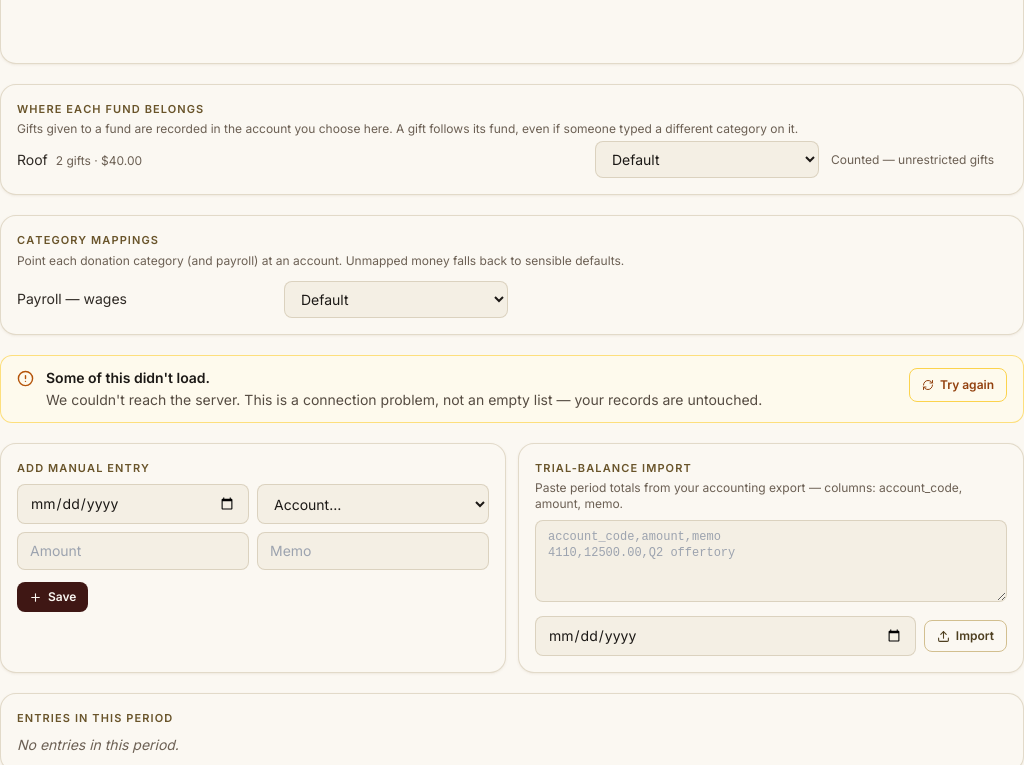
it: FAILED affiliation is not independence › retry replaces the unread affiliation with the diocese block
(page scrolled)
Click the button "Try again" at (958, 384), box [909,368,1007,402]
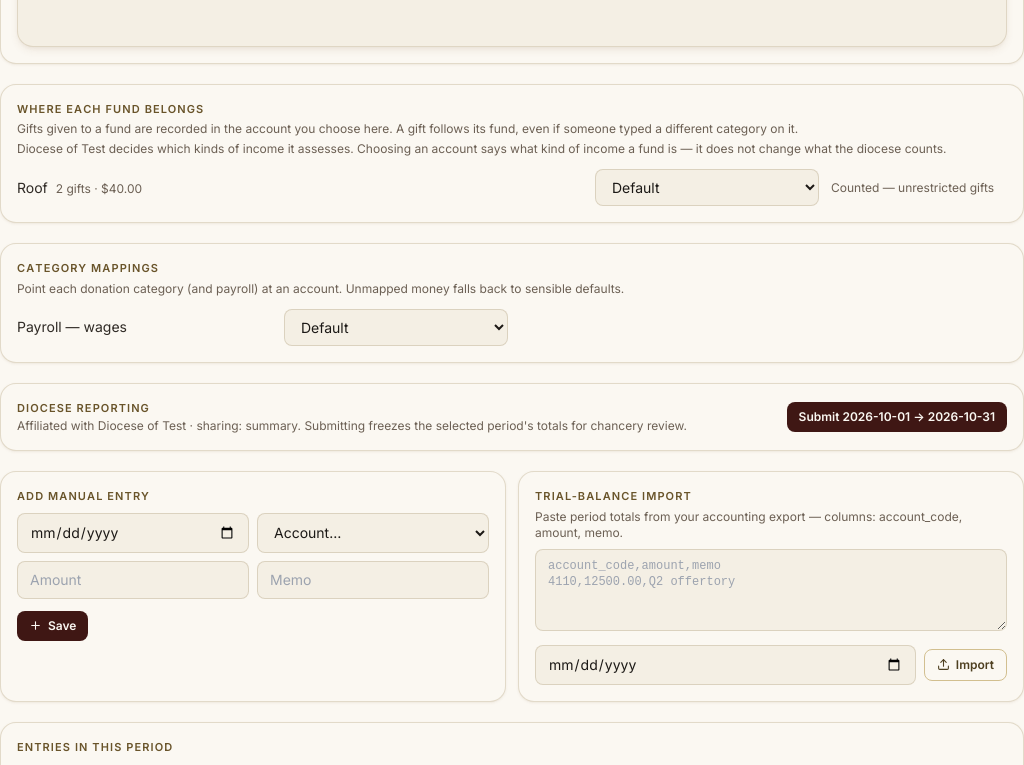
Expected: the text "Diocese reporting" is shown, [17,400,150,414]
Expected: the element with test id "finance-affiliation-unread" is gone
